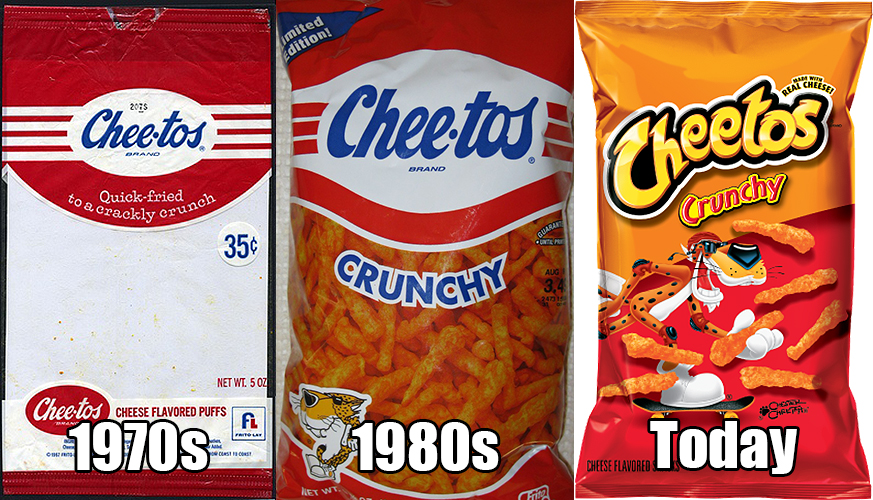cheetos: (574, 2, 871, 497)
